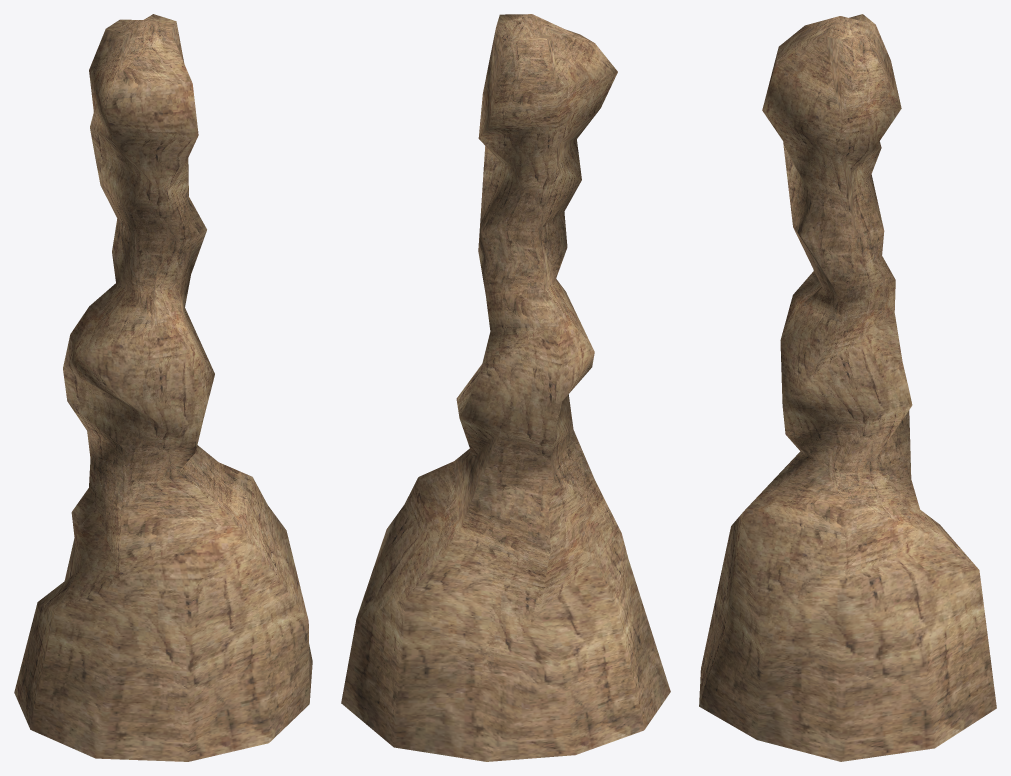
File: rock_tatt_spire_lumpy_l1.fbx
3 views of the same model, side by side, from view 1: azimuth 30°, elevation 25°; view 2: azimuth 150°, elevation 25°; view 3: azimuth 270°, elevation 25° (orthographic). The views are drawn at different scales.
Visible parts, largest first — view 1: mesh_node; view 2: mesh_node; view 3: mesh_node.
Boxes of the visible parts, bbox=[...] form: mesh_node: bbox=[14, 14, 312, 761]; mesh_node: bbox=[341, 14, 670, 761]; mesh_node: bbox=[699, 14, 996, 761].
Bounding box in the file's own units: 33.58 × 77.79 × 31.55.
Materials: 1 (1 with a texture image).
